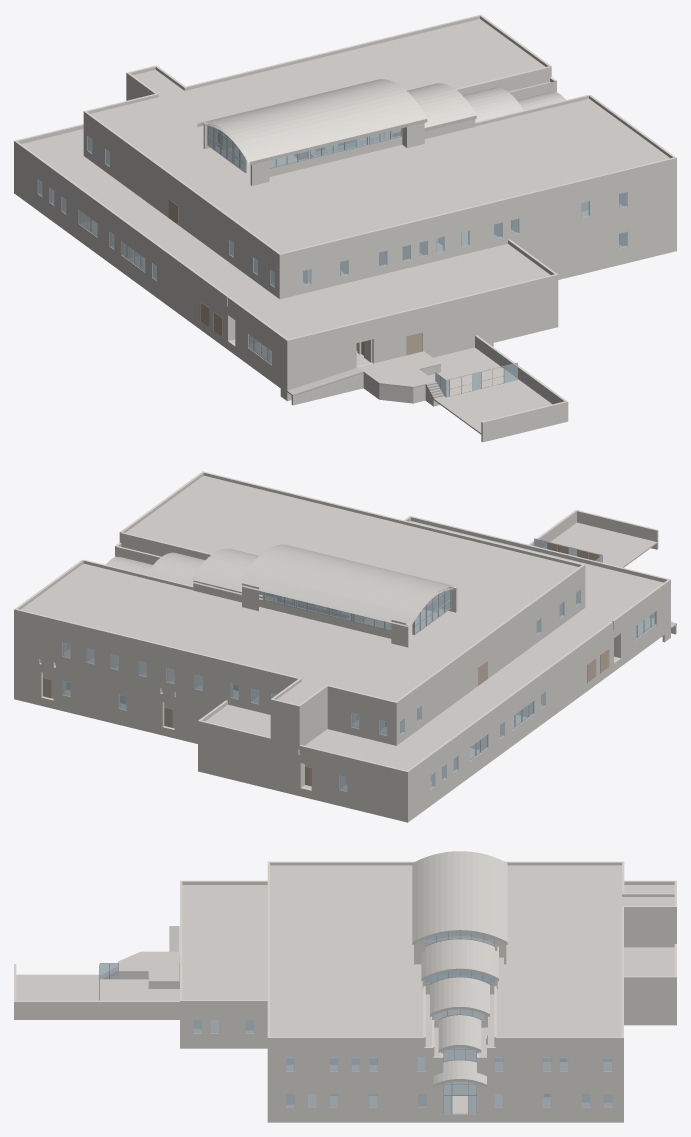
3 renders of one model, top to bottom at view 1: azimuth 30°, elevation 25°; view 2: azimuth 150°, elevation 25°; view 3: azimuth 270°, elevation 25°, orthographic. The views are drawn at different scales.
Visible parts, largest first — view 1: slab, wall, glazing, mullion, door, stair; view 2: slab, wall, glazing, door, mullion; view 3: slab, wall, glazing, mullion.
Boxes of the visible parts, x1,y1,x2,y2 form: slab: (22, 19, 669, 434); wall: (14, 14, 676, 442); glazing: (37, 126, 627, 397); mullion: (78, 124, 515, 397); door: (168, 134, 587, 396); stair: (287, 367, 443, 398); slab: (20, 475, 663, 789); wall: (14, 471, 676, 822); glazing: (62, 538, 655, 791); door: (43, 542, 609, 786); mullion: (264, 538, 655, 760); slab: (16, 851, 674, 1113); wall: (14, 861, 676, 1122); glazing: (100, 932, 612, 1114); mullion: (99, 933, 494, 1114).
Size of the model in its own units: 54.97 by 15.72 by 75.88.
